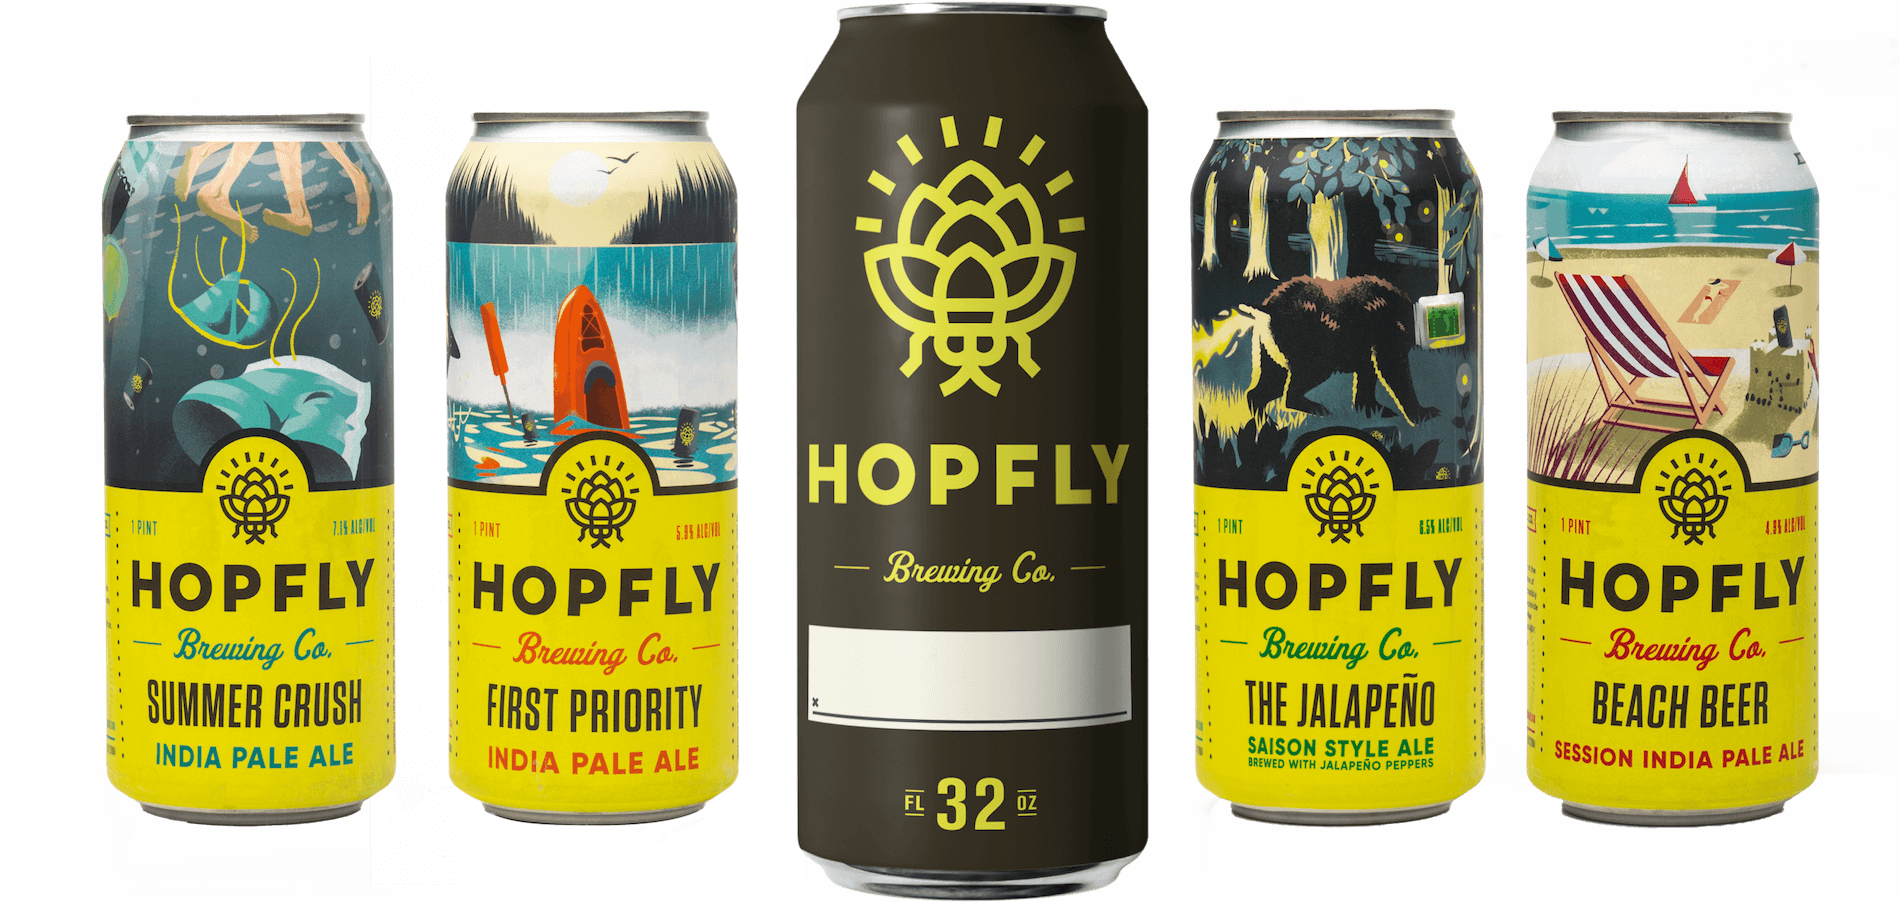beer can: (791, 10, 1161, 902), (1523, 96, 1845, 850), (442, 99, 750, 823), (113, 86, 399, 837), (1198, 110, 1494, 821)
